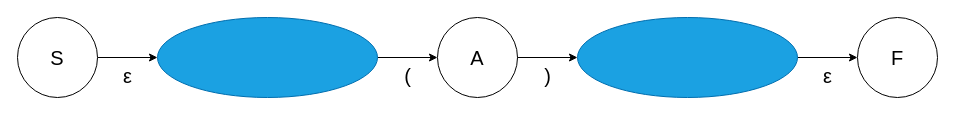
This 955x115 diagram has some shape labels left out. Each missing label, with the box of its shape:
N(block): (576, 16, 798, 98)
N(word): (156, 16, 378, 98)
